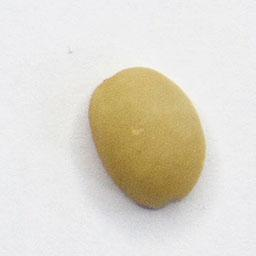defect: (81, 59, 217, 215)
